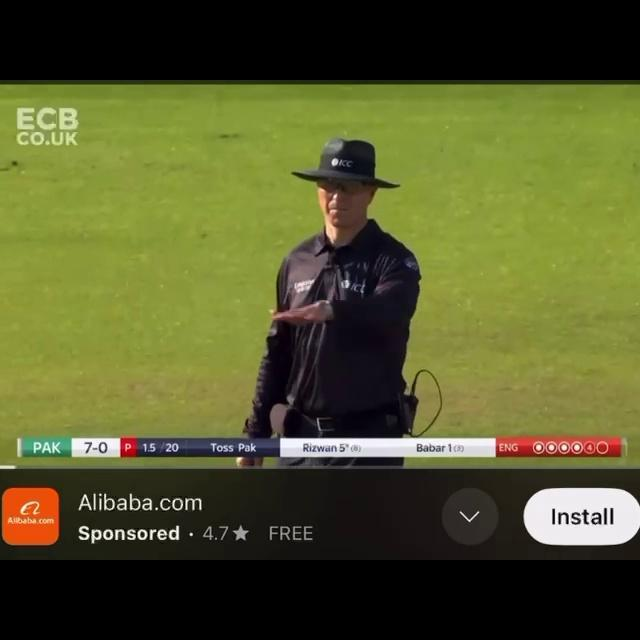umpire: (227, 118, 454, 425)
